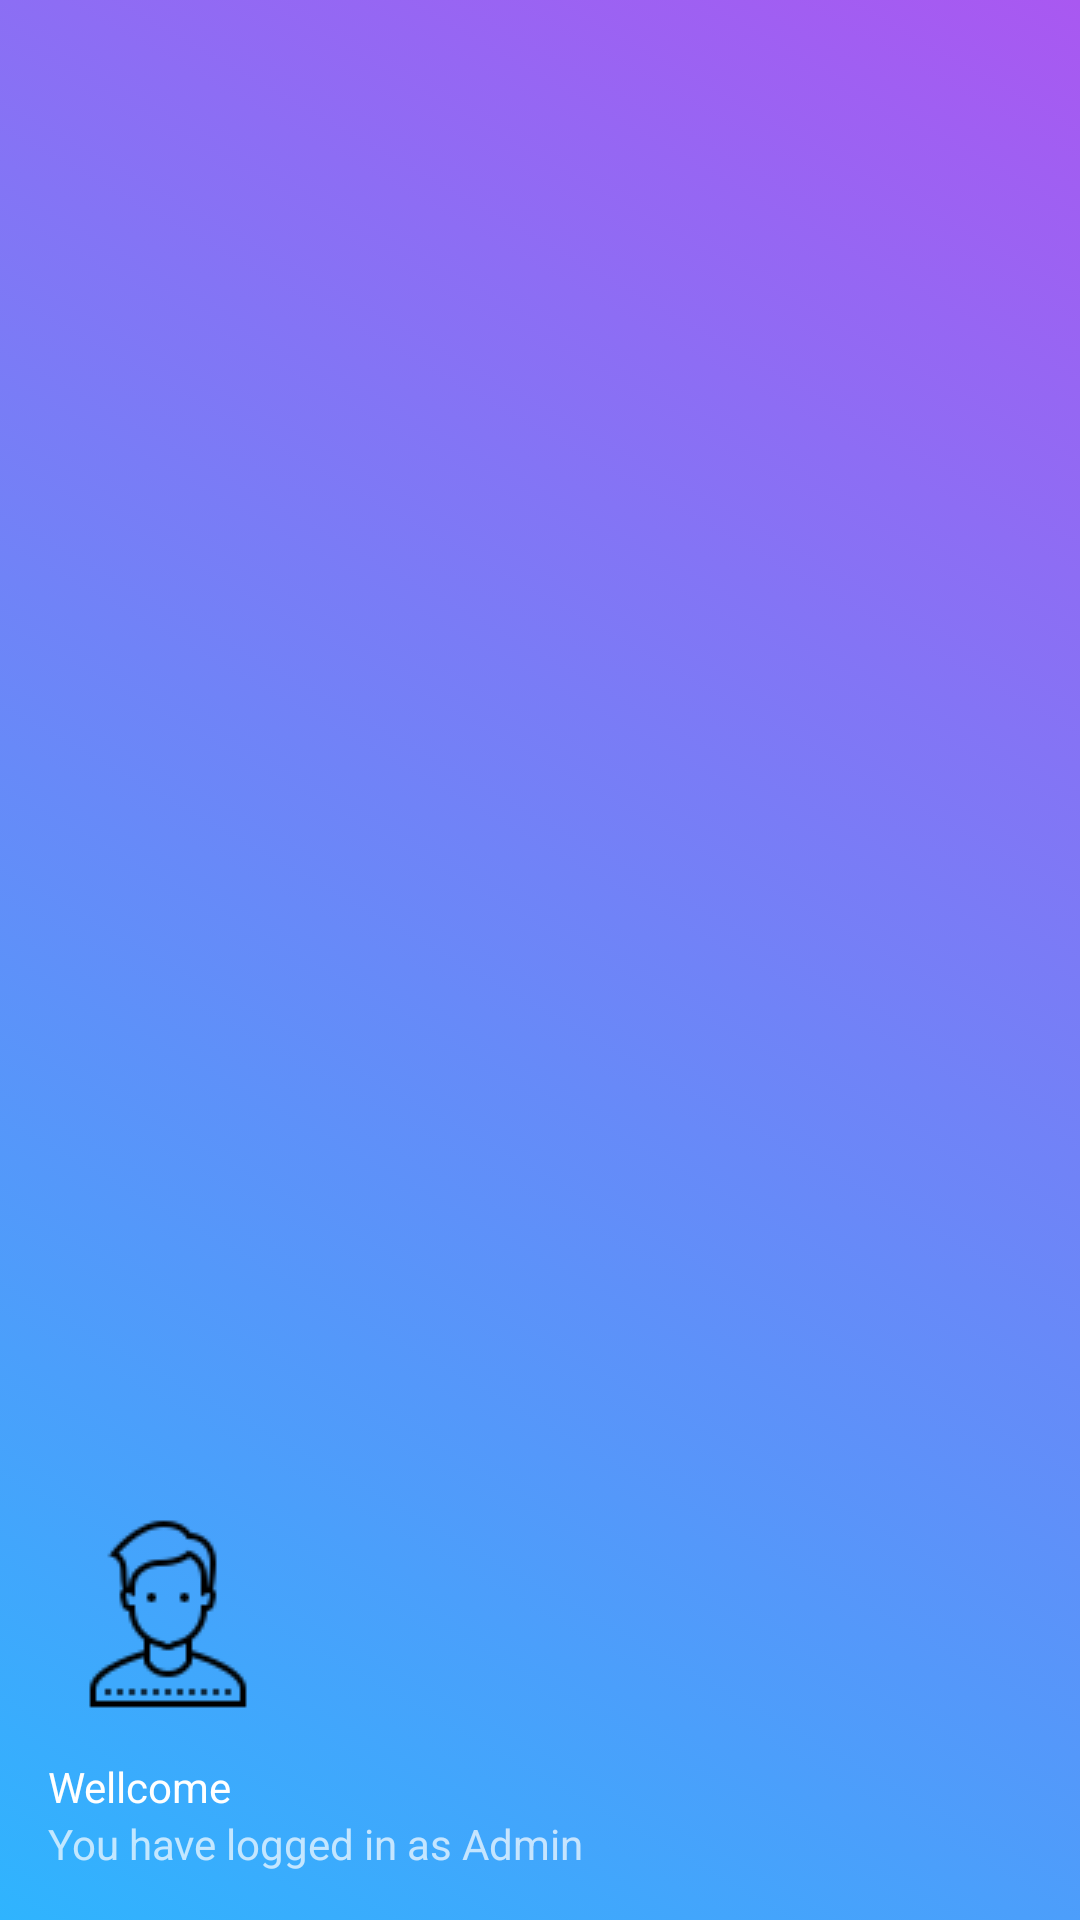

Named icons in this screenshot (1080×1920) and their centers, [x,y]:
user: [168,1614]
